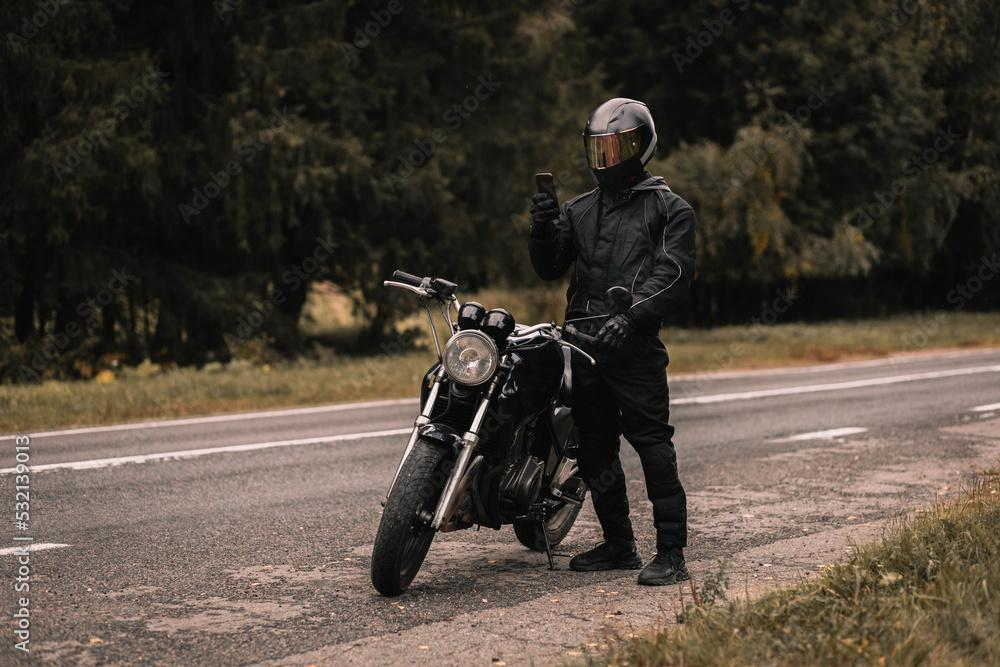helmet: (581, 96, 659, 189)
